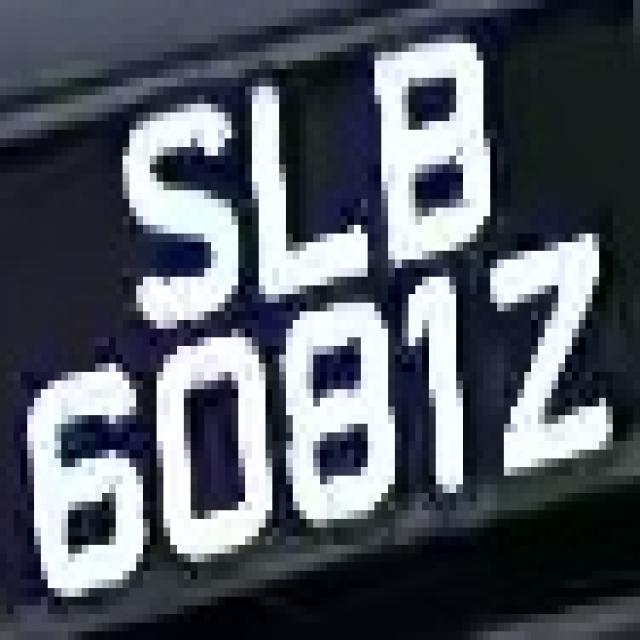0: (136, 329, 313, 562)
1: (395, 251, 483, 519)
6: (20, 320, 150, 631)
8: (258, 277, 402, 519)
B: (354, 8, 504, 286)
L: (232, 52, 388, 320)
S: (109, 78, 238, 328)
Z: (470, 208, 626, 502)
